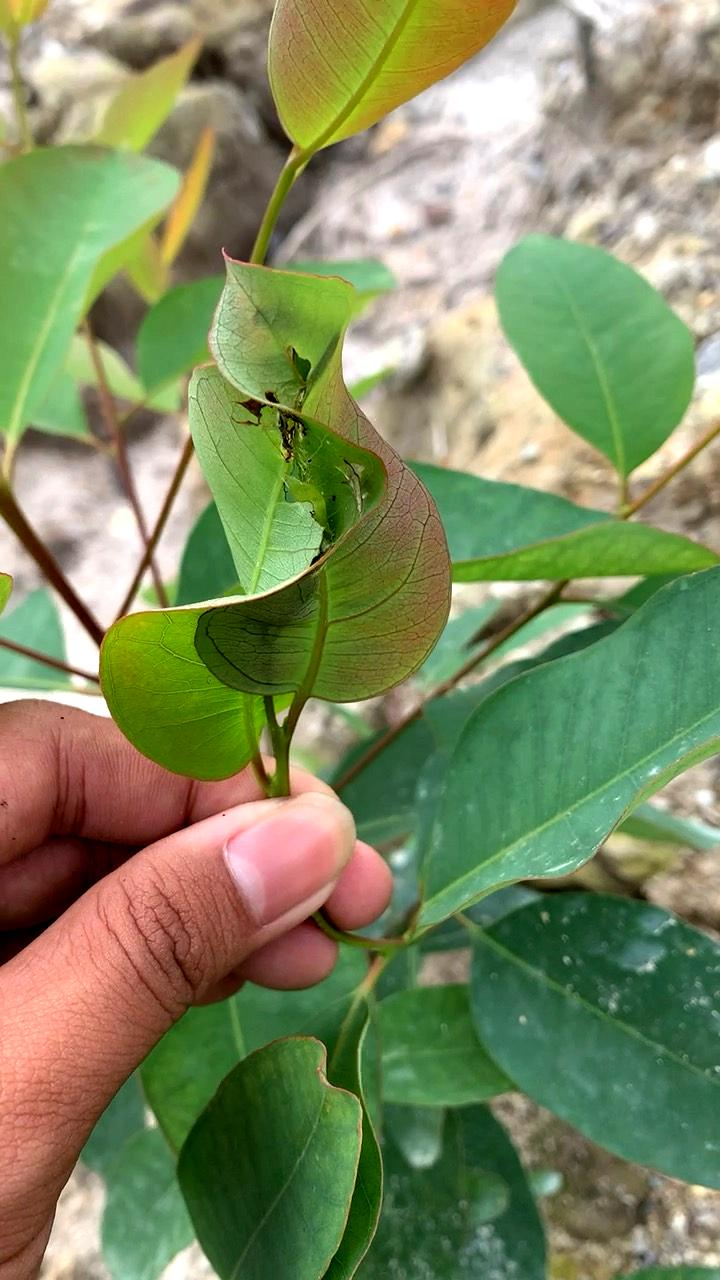Leaf Roller - Leaf: (75, 233, 470, 822)
